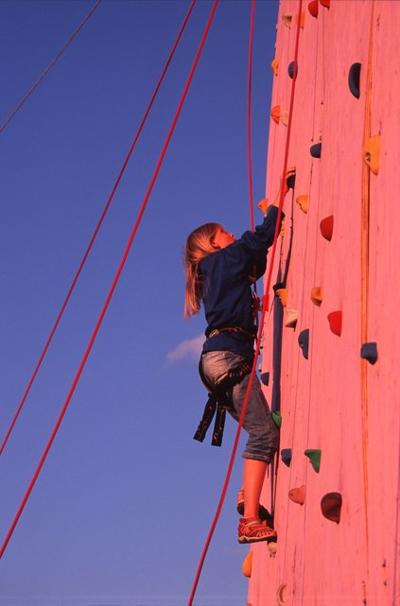person: (182, 196, 287, 548)
